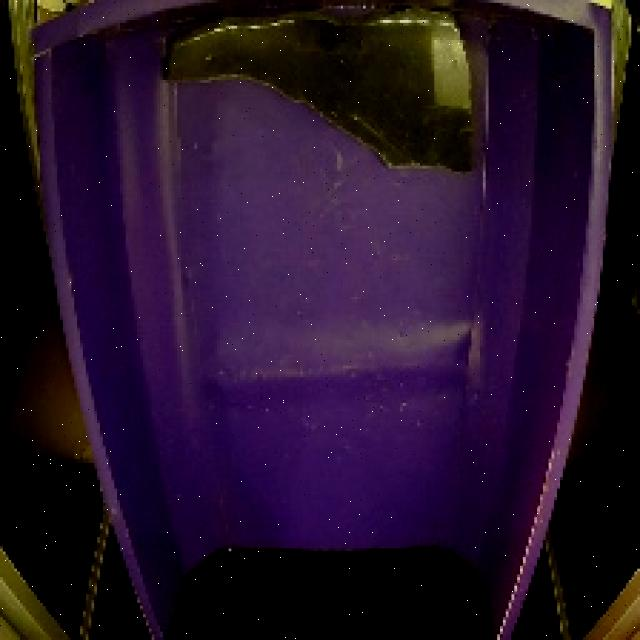china: (150, 0, 479, 183)
